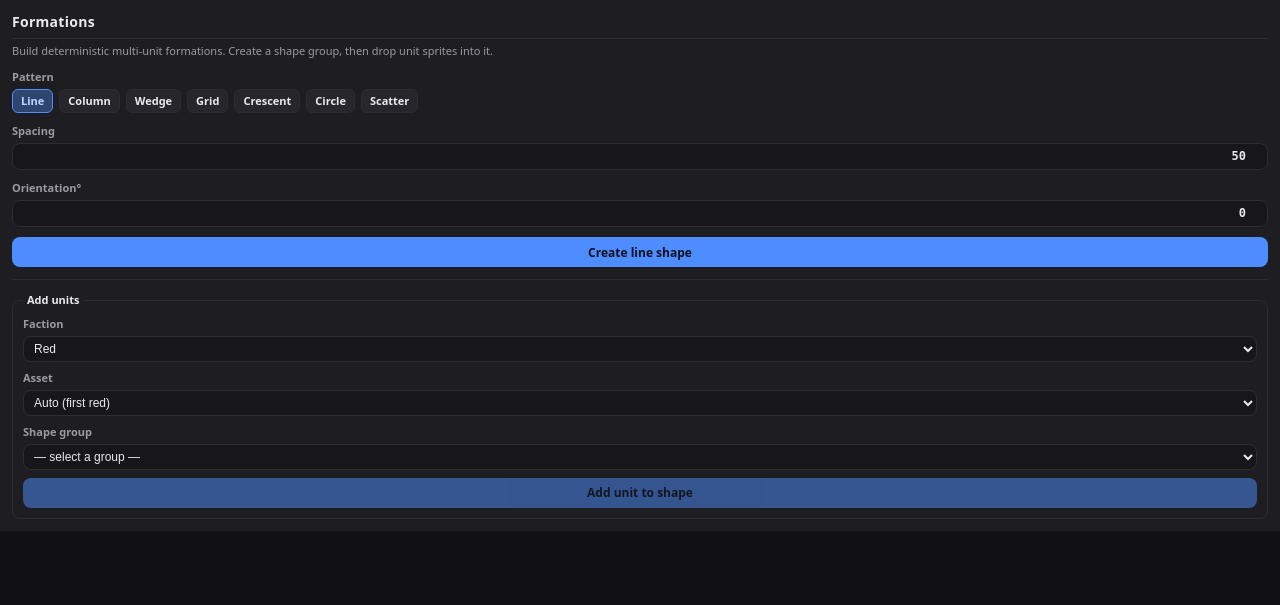
ShapesPanel › radius input appears only for crescent/circle
The width and height of the screenshot is (1280, 605).
Click the button with test id "shape-pattern-crescent".
click(267, 101)  # box [234,89,300,113]
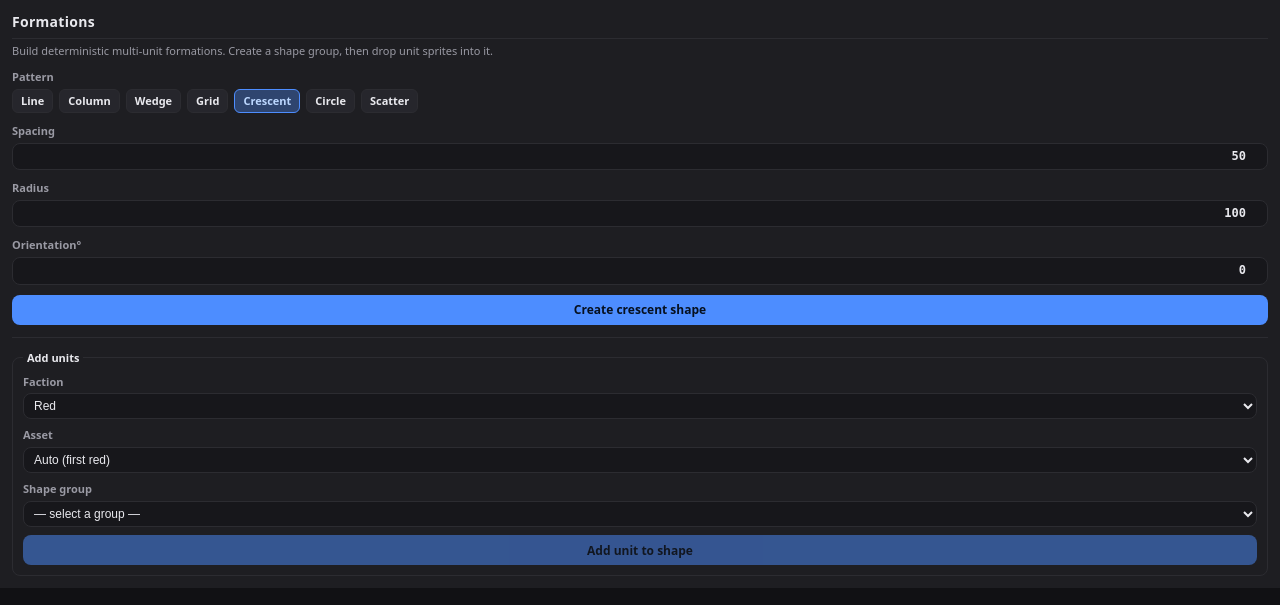
Check: the number field with test id "shape-radius" is shown, box [12,200,1268,227]
Click the button with test id "shape-pattern-line".
click(33, 101)  # box [12,89,53,113]
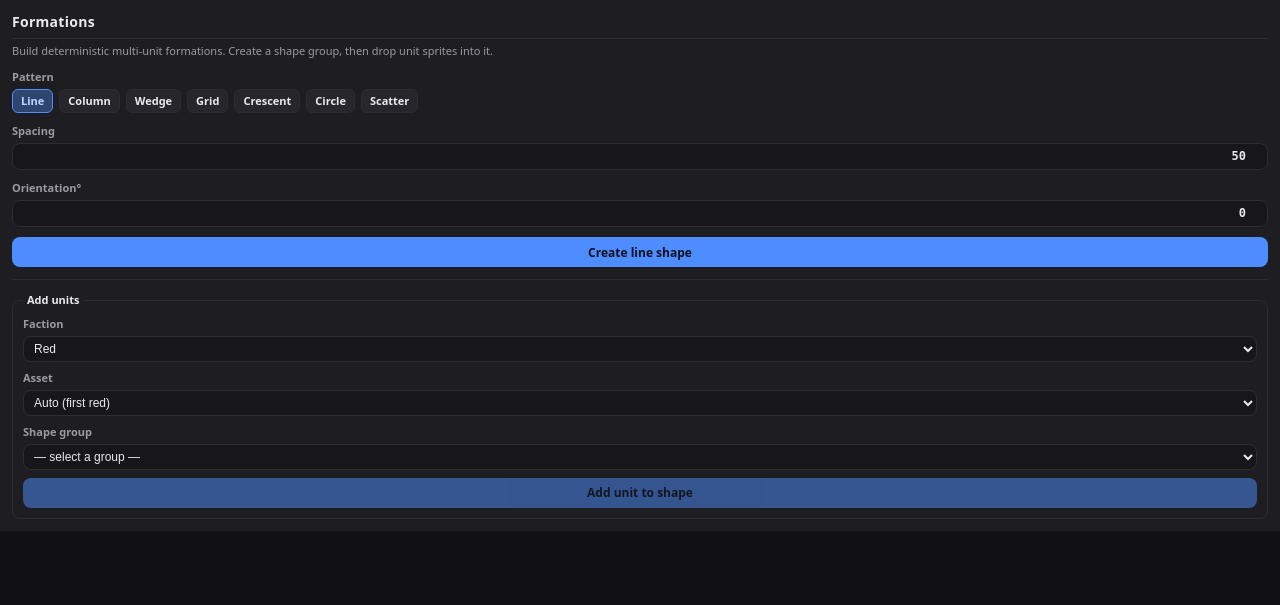
Check: the number field with test id "shape-radius" is gone
